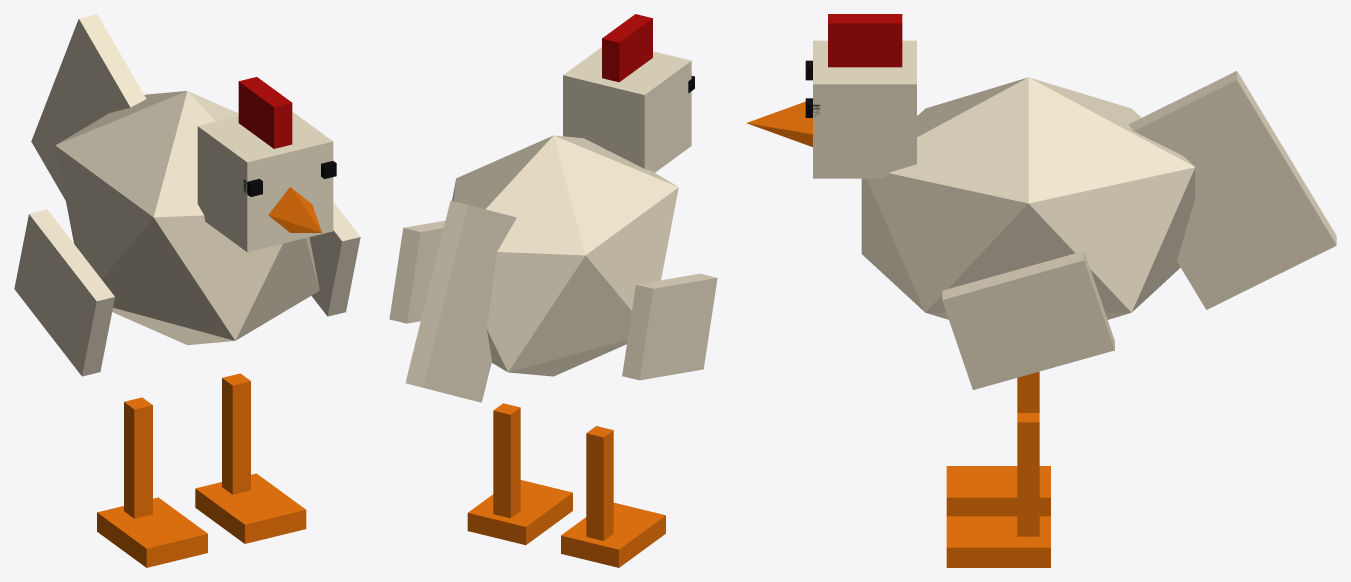
File: hen.obj
3 views of the same model, side by side, from view 1: azimuth 30°, elevation 25°; view 2: azimuth 150°, elevation 25°; view 3: azimuth 270°, elevation 25° (orthographic). The views are drawn at different scales.
Visible parts, largest first — view 1: hen; view 2: hen; view 3: hen.
Boxes of the visible parts, x1,y1,x2,y2 form: hen: (14, 14, 360, 567); hen: (389, 14, 717, 567); hen: (746, 14, 1336, 567).
Size of the model in its own units: 0.43 by 0.755 by 0.7949.
